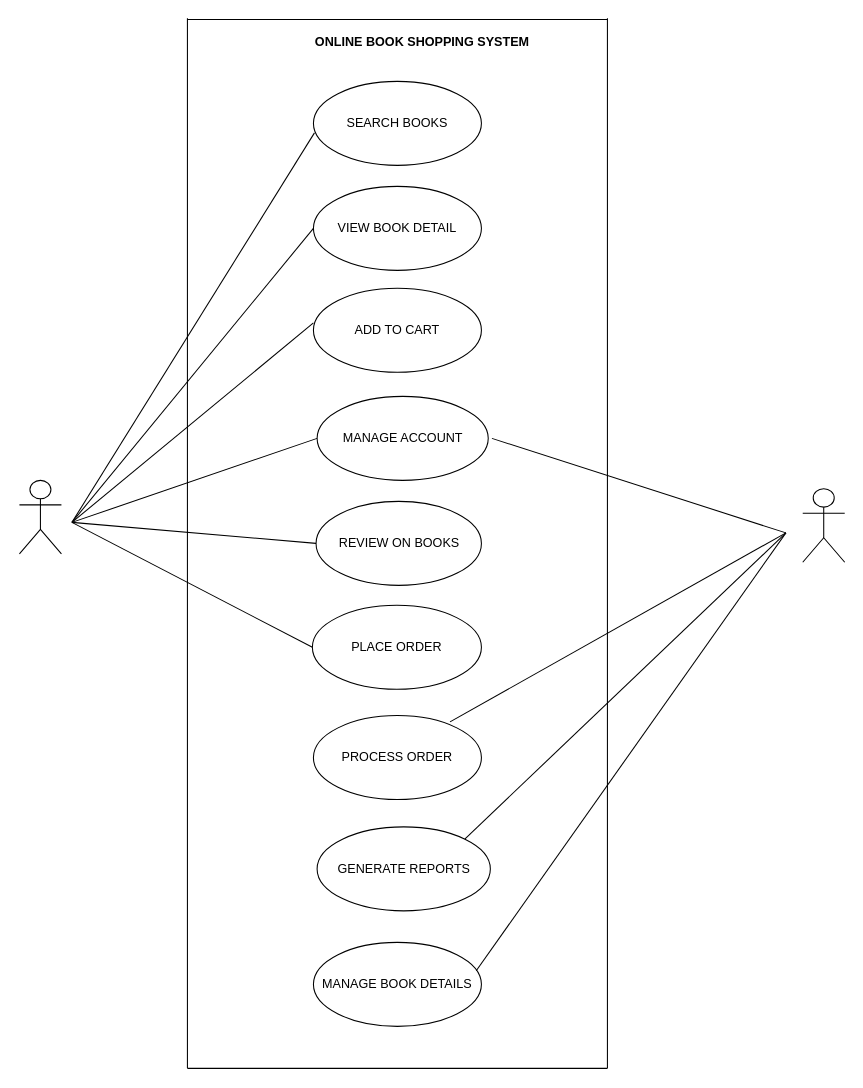
Image size: 863x1088. Some labels were removed from this diagram. The centre of each missing label's shape, as x and y in pixels:
"ADMIN" belongs at pixel 823 525.
"CLIENT" belongs at pixel 39 516.
